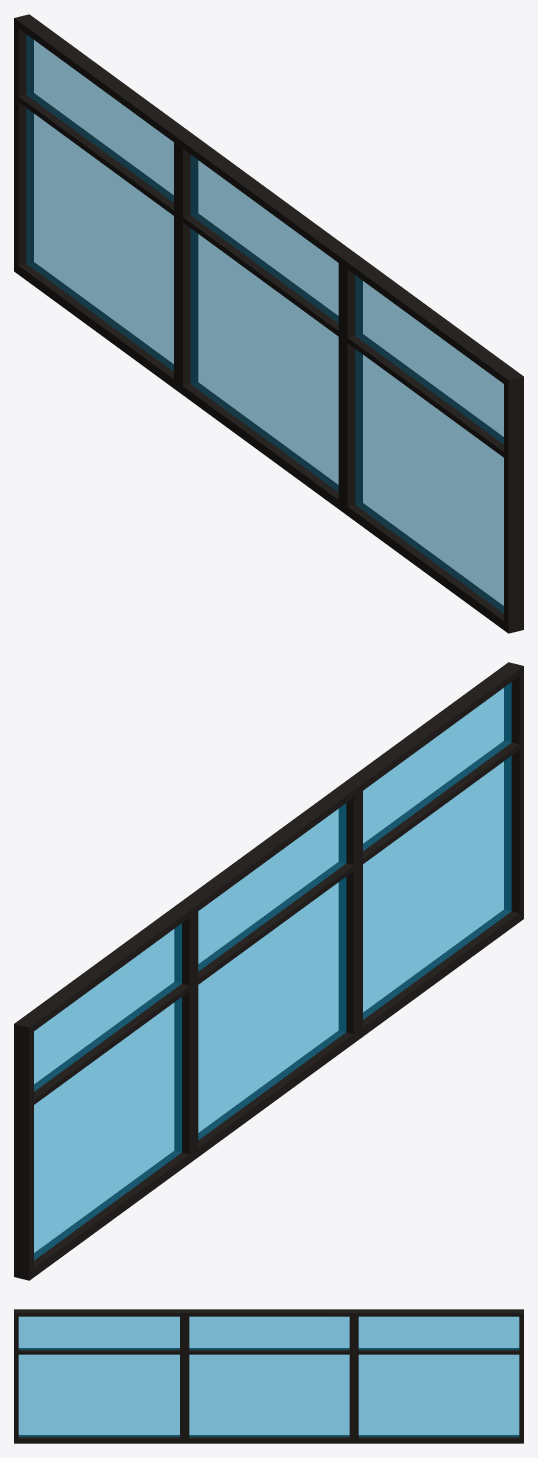
The model's file is ventanal1DeptoB.DAE.
3 renders of one model, top to bottom at view 1: azimuth 30°, elevation 25°; view 2: azimuth 150°, elevation 25°; view 3: azimuth 270°, elevation 25°, orthographic. The views are drawn at different scales.
Parts seen in each view (by area): view 1: Ventanal1; view 2: Ventanal1; view 3: Ventanal1.
Part boxes in pixels (left/top/right/bottom): Ventanal1: left=14, top=14, right=523, bottom=633; Ventanal1: left=14, top=662, right=523, bottom=1280; Ventanal1: left=14, top=1309, right=523, bottom=1443.
Bounding box in the file's own units: 0.2019 × 3.1 × 10.97.
